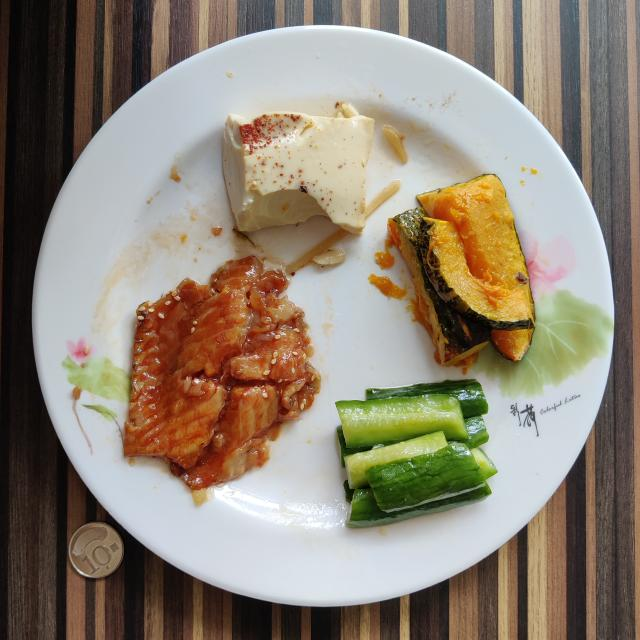Kabayaki sea bream fillet: (124, 256, 320, 490)
coin: (69, 521, 124, 579)
cucumber: (336, 380, 498, 528)
pumpkin: (389, 175, 535, 366)
